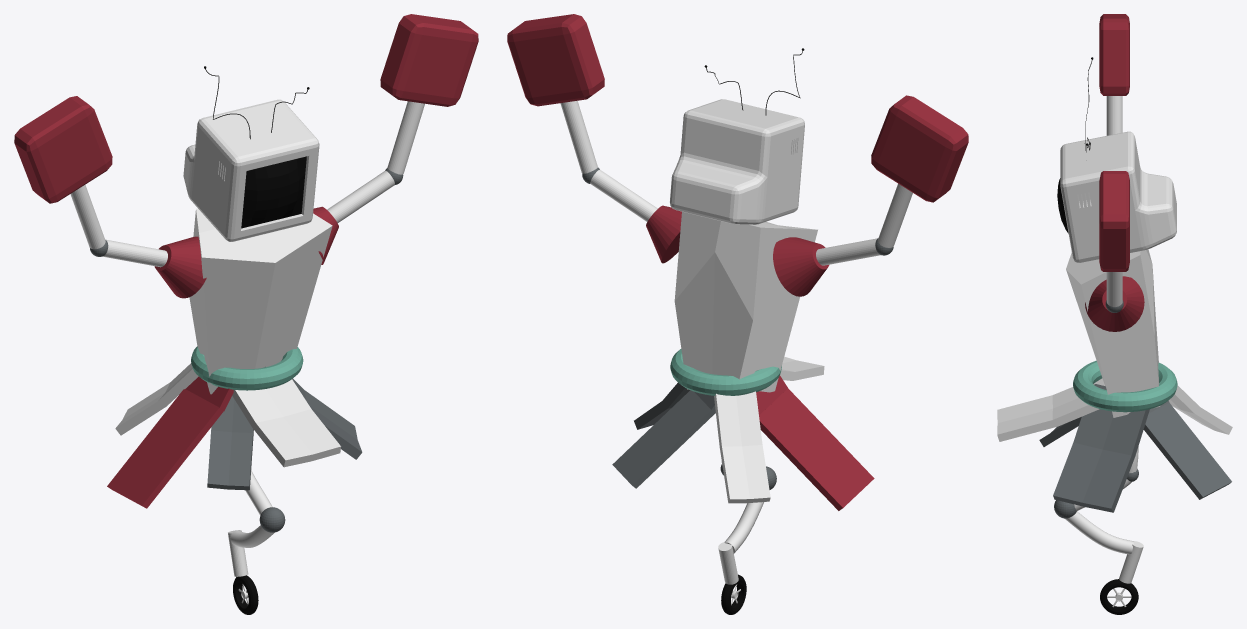
File: rough layout settings 2.fbx
3 renders of one model, left to right at view 1: azimuth 30°, elevation 25°; view 2: azimuth 150°, elevation 25°; view 3: azimuth 270°, elevation 25°, orthographic. The views are drawn at different scales.
Parts seen in each view (by area): view 1: Torso, tv case, Left - Punching Pad, Right - Punching Pad, Metal Sheet 1, Metal Sheet 3, TV screen, Metal Sheet 2, Torso Ring, Left - Shoulder Placeholder, Metal Sheet 6, Metal Sheet 5 (+5 smaller); view 2: Torso, tv case, Left - Punching Pad, Right - Punching Pad, Metal Sheet 1, Metal Sheet 6, Metal Sheet 4, Left - Shoulder Placeholder, Torso Ring, Right - Shoulder Placeholder, Right - Forearm, Right - Upper Arm (+6 smaller); view 3: tv case, Torso, Metal Sheet 5, Metal Sheet 4, Right - Punching Pad, Metal Sheet 3, Torso Ring, Left - Punching Pad, Right - Shoulder Placeholder, Metal Sheet 6, Leg Pipe - 3, Wheel Rim (+4 smaller).
Boxes of the visible parts, x1=… form: Torso: x1=189, y1=208, x2=332, y2=394; tv case: x1=183, y1=99, x2=319, y2=241; Left - Punching Pad: x1=14, y1=96, x2=112, y2=203; Right - Punching Pad: x1=380, y1=14, x2=478, y2=106; Metal Sheet 1: x1=107, y1=376, x2=233, y2=508; Metal Sheet 3: x1=232, y1=379, x2=340, y2=467; TV screen: x1=241, y1=156, x2=306, y2=228; Metal Sheet 2: x1=207, y1=396, x2=253, y2=490; Torso Ring: x1=191, y1=346, x2=303, y2=390; Left - Shoulder Placeholder: x1=154, y1=236, x2=206, y2=298; Metal Sheet 6: x1=115, y1=363, x2=198, y2=435; Metal Sheet 5: x1=264, y1=366, x2=362, y2=459; Torso: x1=674, y1=211, x2=817, y2=392; tv case: x1=670, y1=99, x2=804, y2=224; Left - Punching Pad: x1=871, y1=95, x2=968, y2=202; Right - Punching Pad: x1=507, y1=14, x2=604, y2=106; Metal Sheet 1: x1=756, y1=375, x2=874, y2=510; Metal Sheet 6: x1=714, y1=391, x2=770, y2=503; Metal Sheet 4: x1=612, y1=390, x2=715, y2=488; Left - Shoulder Placeholder: x1=773, y1=237, x2=829, y2=296; Torso Ring: x1=670, y1=349, x2=781, y2=395; Right - Shoulder Placeholder: x1=646, y1=205, x2=681, y2=263; Right - Forearm: x1=560, y1=100, x2=597, y2=173; Right - Upper Arm: x1=590, y1=169, x2=657, y2=221; tv case: x1=1060, y1=131, x2=1176, y2=262; Torso: x1=1066, y1=249, x2=1160, y2=417; Metal Sheet 5: x1=1053, y1=384, x2=1149, y2=512; Metal Sheet 4: x1=1143, y1=400, x2=1231, y2=499; Right - Punching Pad: x1=1099, y1=171, x2=1129, y2=271; Metal Sheet 3: x1=997, y1=378, x2=1104, y2=441; Torso Ring: x1=1073, y1=360, x2=1177, y2=412; Left - Punching Pad: x1=1099, y1=14, x2=1129, y2=95; Right - Shoulder Placeholder: x1=1085, y1=276, x2=1144, y2=331; Metal Sheet 6: x1=1168, y1=385, x2=1232, y2=434; Leg Pipe - 3: x1=1065, y1=511, x2=1133, y2=554; Wheel Rim: x1=1100, y1=579, x2=1138, y2=614.
Size of the model in its own units: 1.95 by 2.35 by 0.9445.
